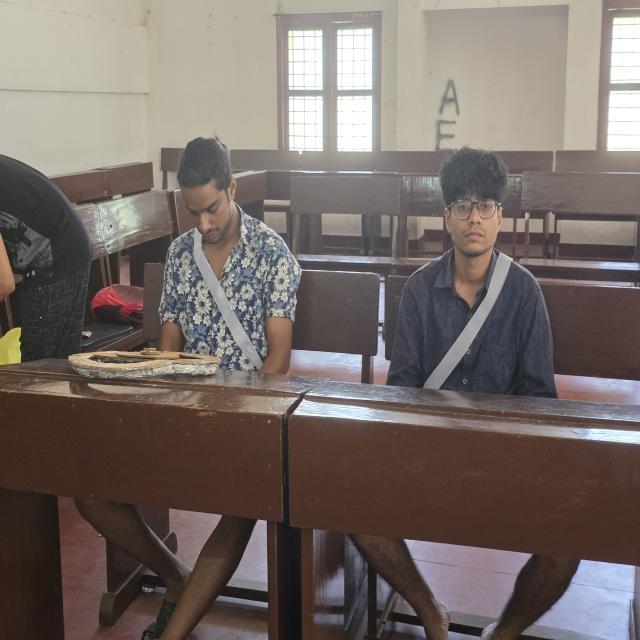seatbelt: (399, 248, 533, 398), (169, 233, 287, 366)
